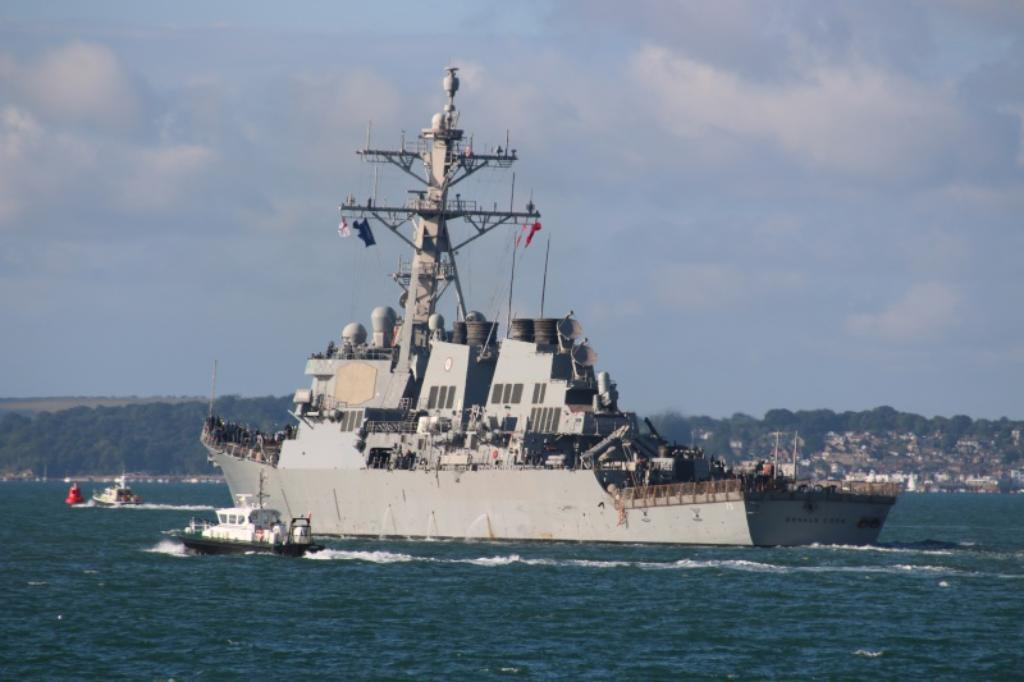Warship: (192, 61, 902, 548)
